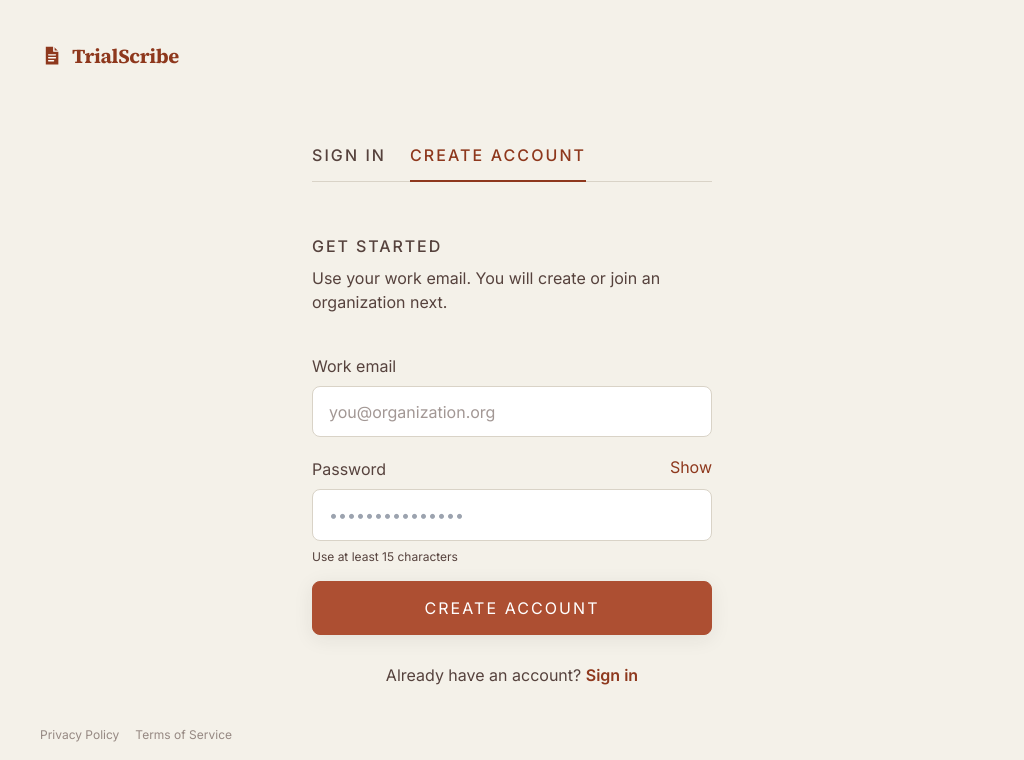
Test case: session flow › creates an account from the signup form
Type "user@example.com" into the field labelled "email" at (512, 412), box x1=312 y1=386 x2=712 y2=437
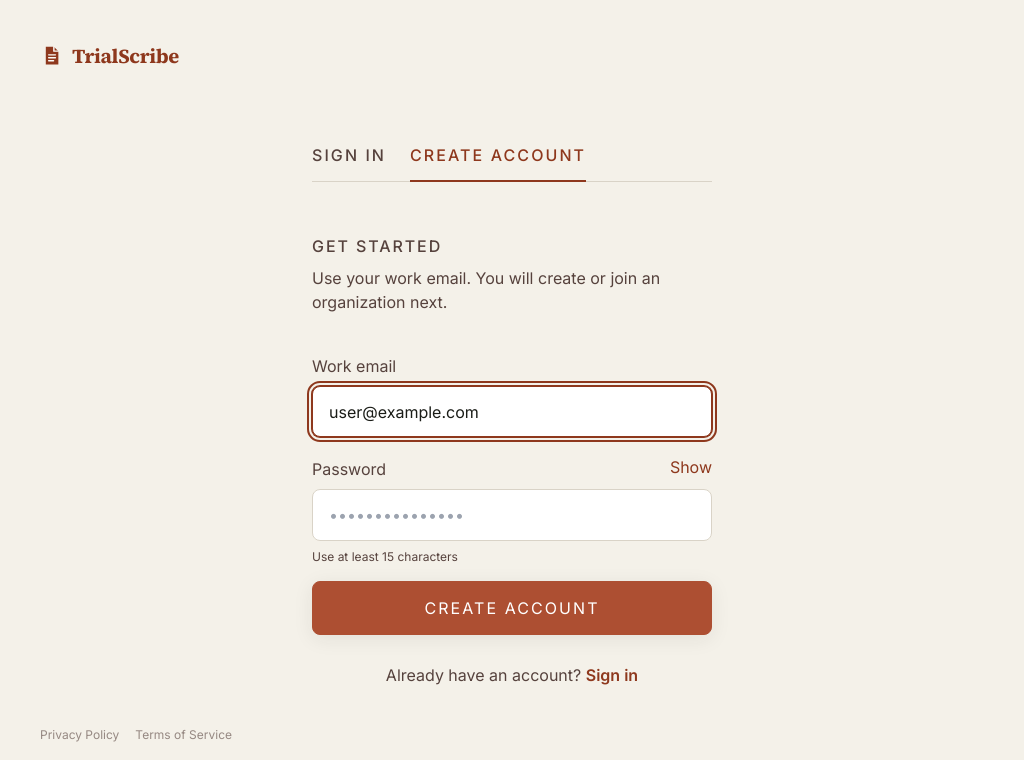
Type "correct-horse-battery" into the password field labelled "Password" at (512, 515), box x1=312 y1=489 x2=712 y2=541
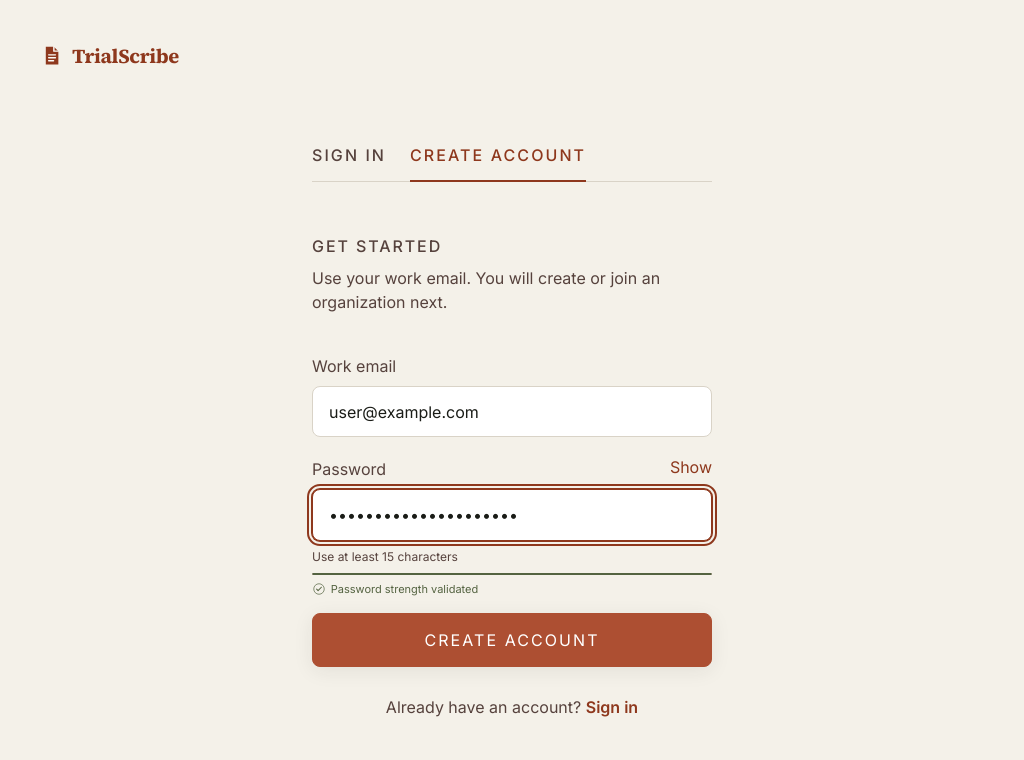
Click the button "Create account" at (512, 640), box x1=312 y1=613 x2=712 y2=667
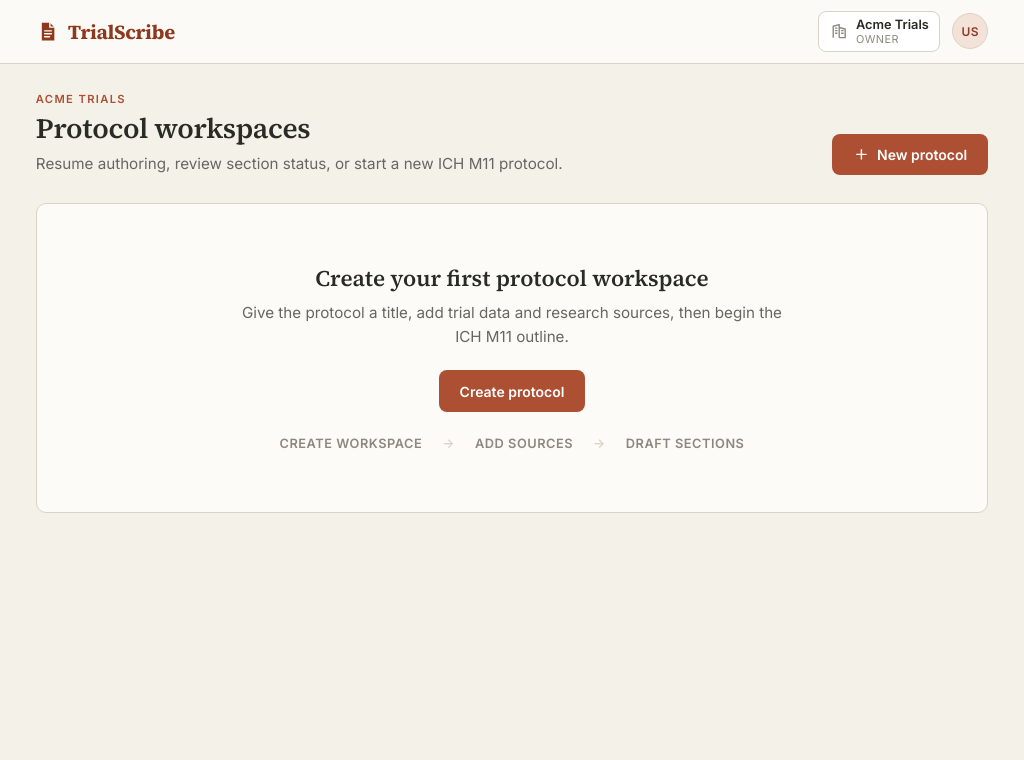
Expected: the heading "Protocol workspaces" is shown, x1=36 y1=109 x2=310 y2=147
